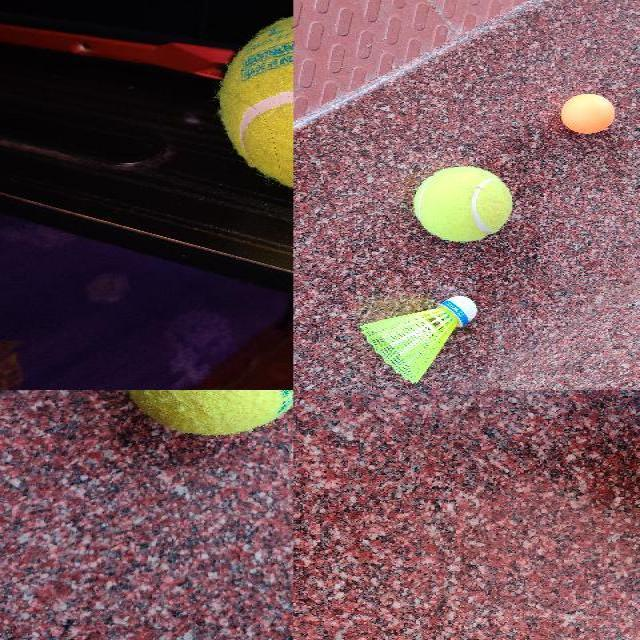tennis-ball: (215, 5, 293, 200), (115, 390, 293, 433), (413, 166, 511, 242)
